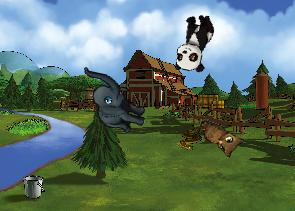elephant: (73, 66, 153, 135)
owl: (192, 119, 245, 160)
panda: (172, 10, 216, 75)
